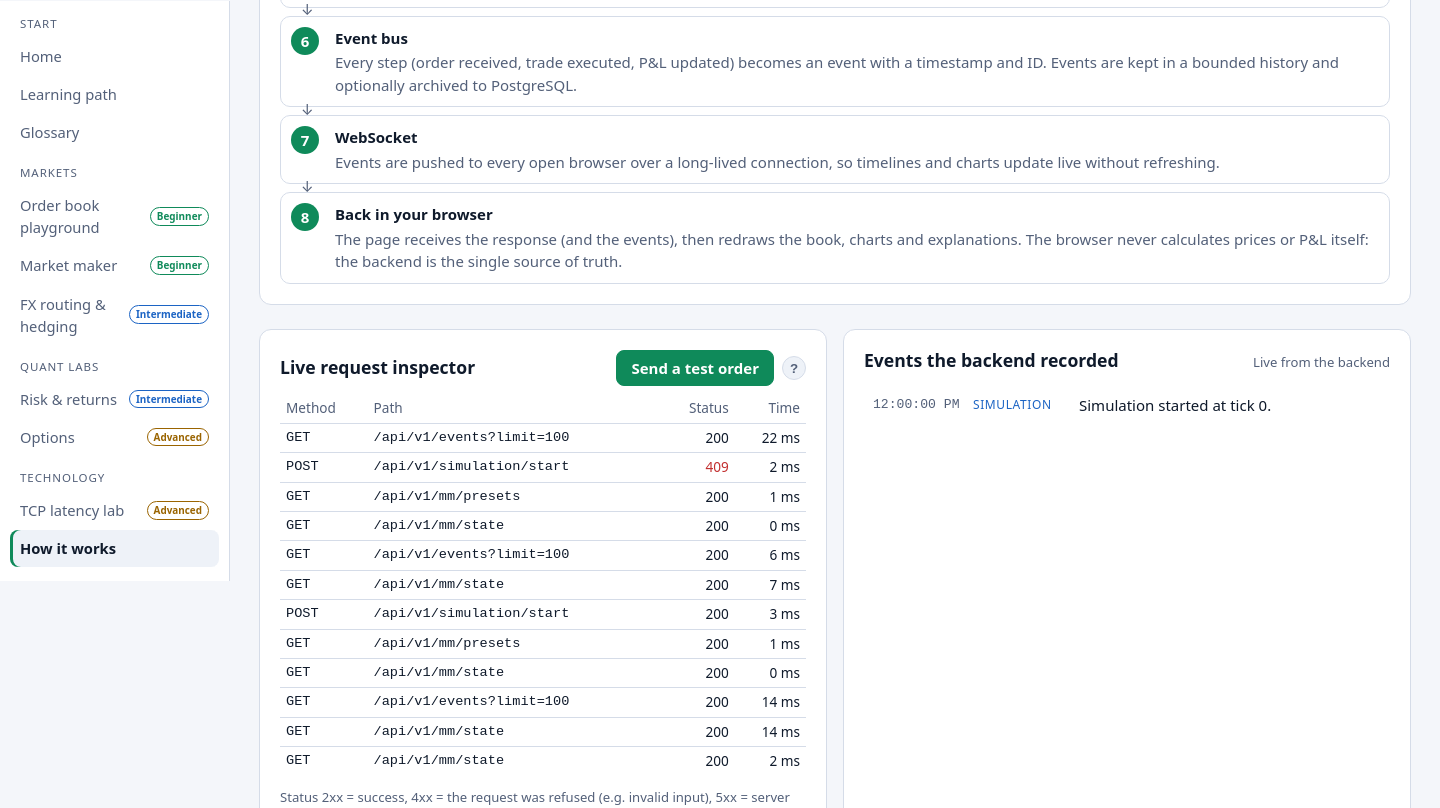
Test: App shell › renders streamed events and reveals technical details on click
(page scrolled)
Click the button "12:00:00 PM simulation Simulation started at tick 0." at x=1127, y=405, box [864,387,1390,424]
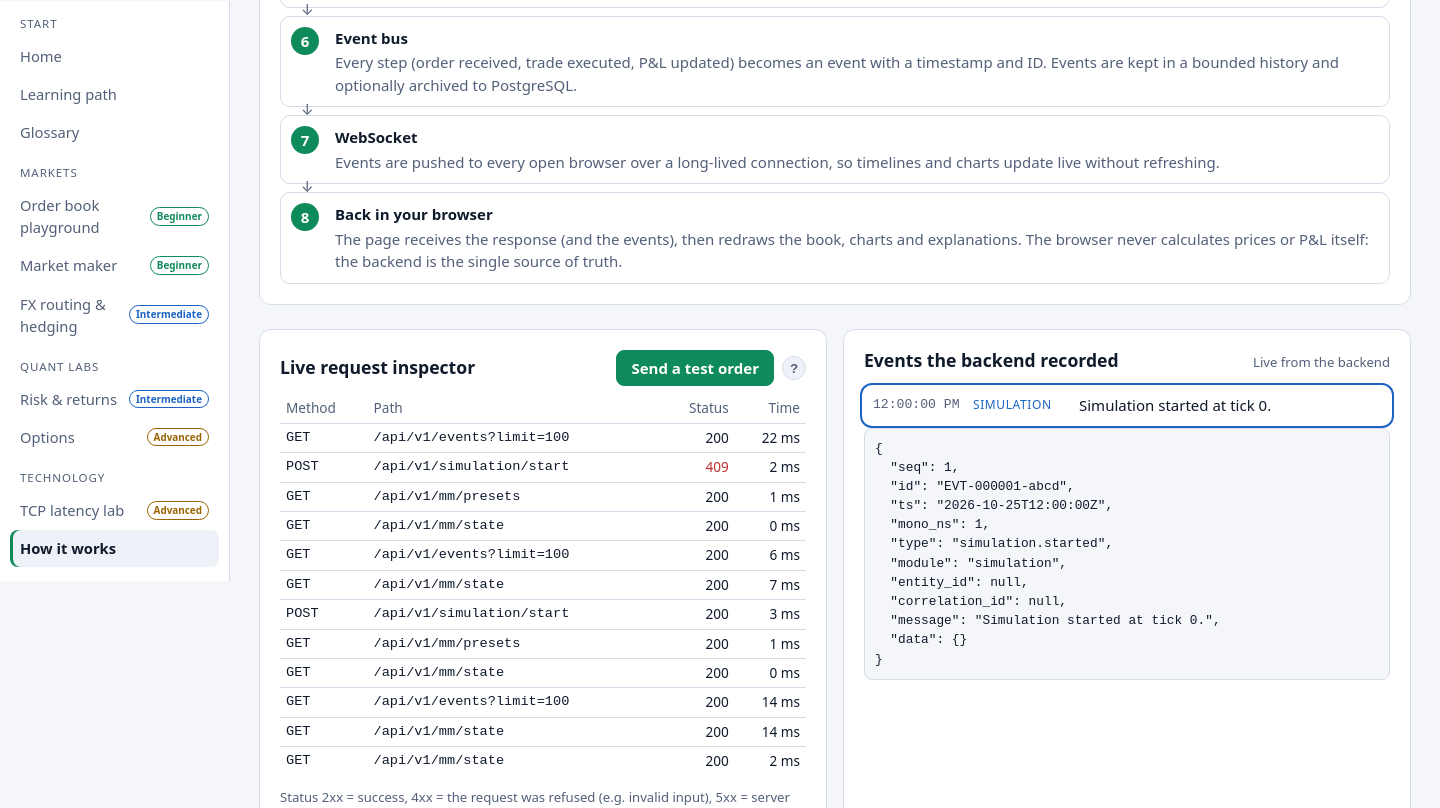
Result: the text named "Event technical details" shows "EVT-000001-abcd" at [875,440,1221,667]
